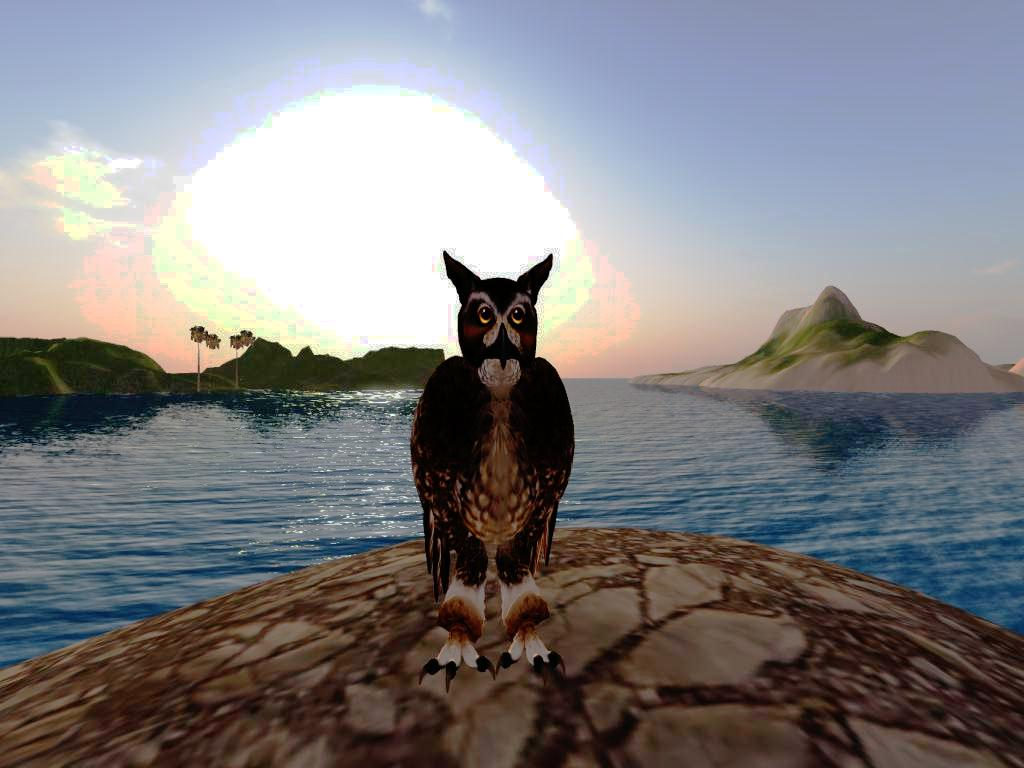Owl: (406, 240, 579, 695)
